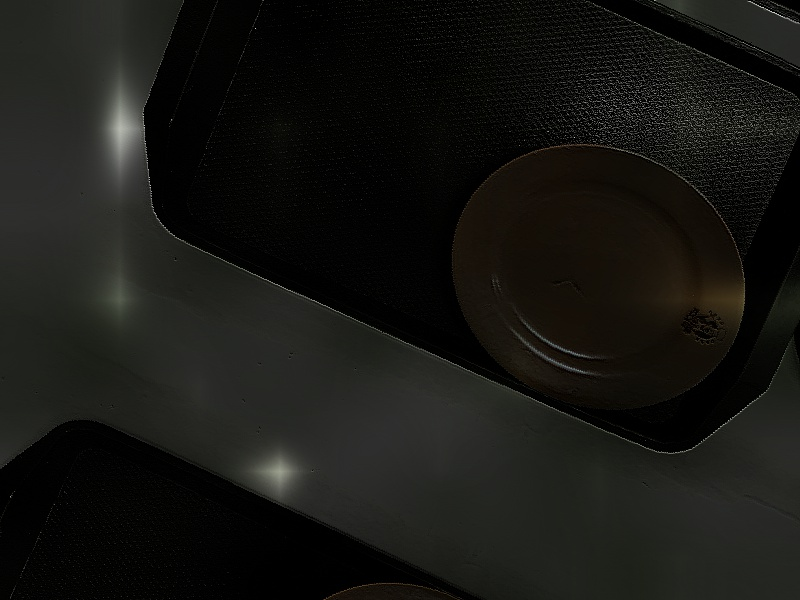dish10: (402, 90, 792, 464)
